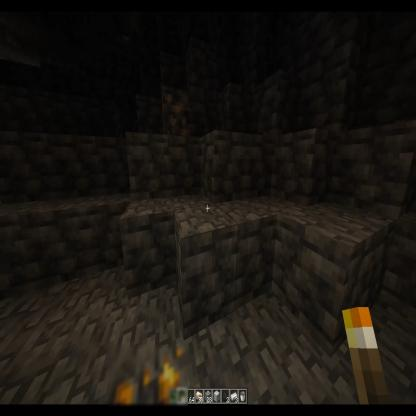gold ore: (108, 345, 188, 413)
iron ore: (160, 82, 198, 137)
